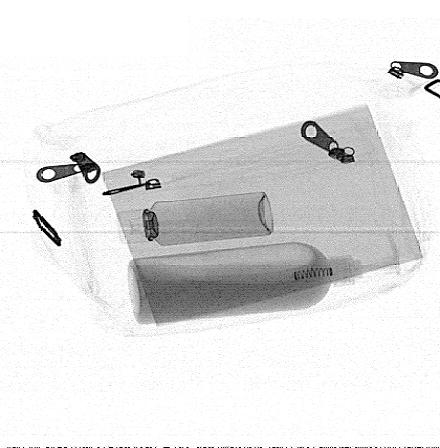Sprayer: (118, 192, 274, 246)
